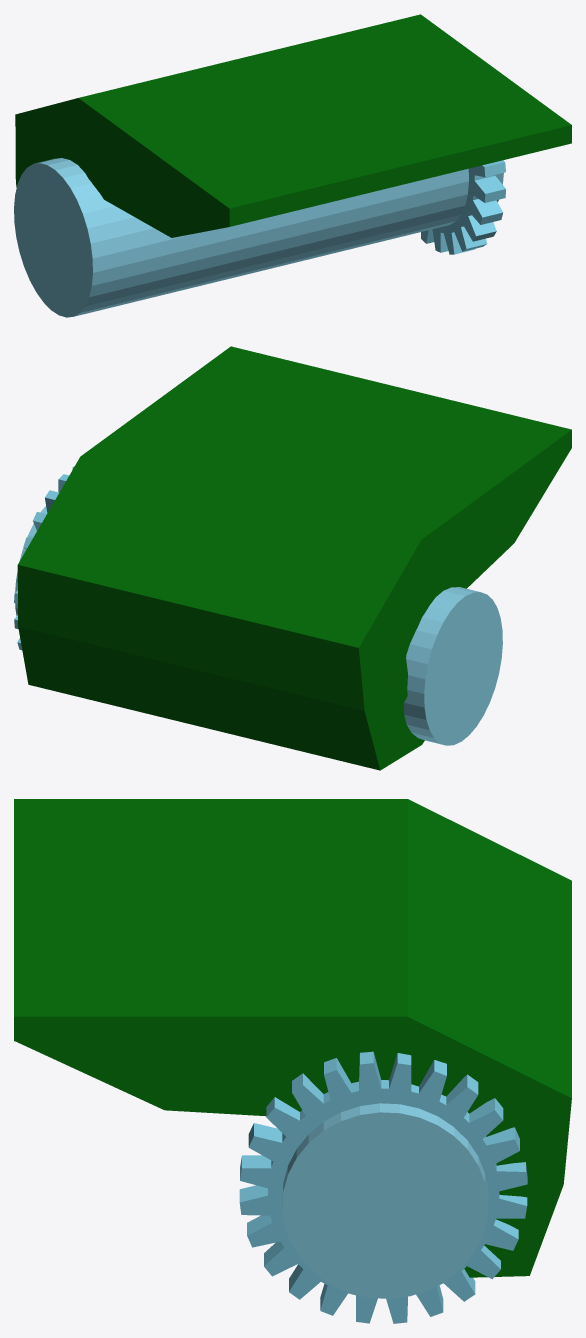
File: OriginalRollerBelt.fbx
3 renders of one model, top to bottom at view 1: azimuth 30°, elevation 25°; view 2: azimuth 150°, elevation 25°; view 3: azimuth 270°, elevation 25°, orthographic. The views are drawn at different scales.
Parts seen in each view (by area): view 1: Belt.001, Gear.001; view 2: Belt.001, Gear.001; view 3: Belt.001, Gear.001.
Part boxes in pixels (bbox=[...]): Belt.001: bbox=[15, 14, 571, 237]; Gear.001: bbox=[14, 158, 505, 317]; Belt.001: bbox=[17, 346, 571, 770]; Gear.001: bbox=[14, 466, 502, 745]; Belt.001: bbox=[14, 799, 571, 1277]; Gear.001: bbox=[239, 1051, 527, 1323].
Size of the model in its own units: 240 by 126 by 217.
